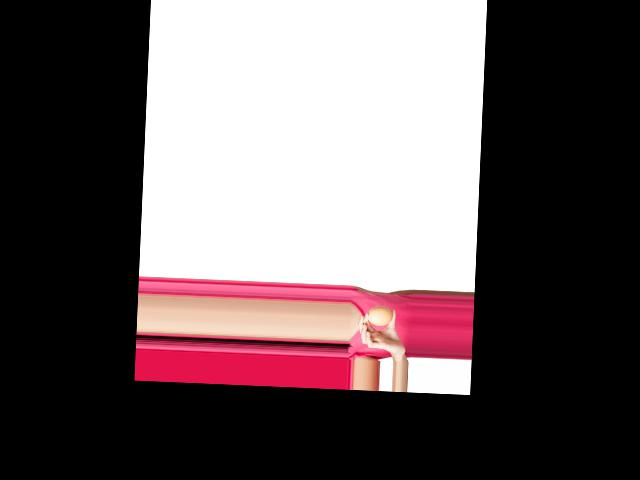egg: (367, 305, 393, 326)
